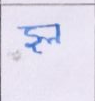o_matra: (52, 24, 62, 45)
